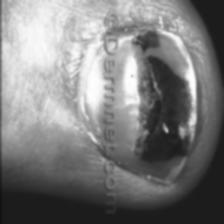Toxin: (81, 23, 198, 190)
